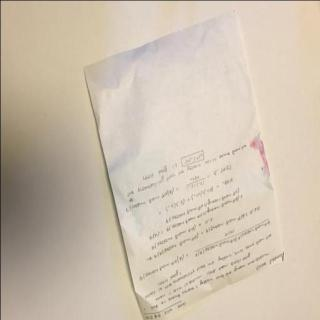Anorganik: (87, 7, 283, 317)
